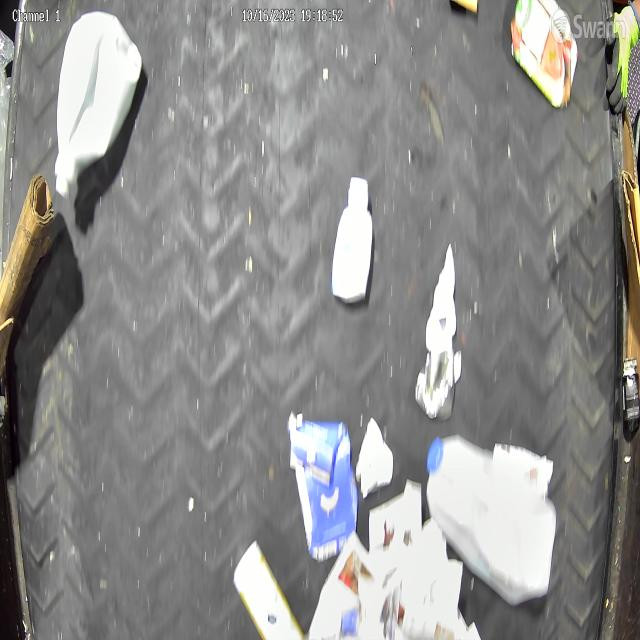milk_jug: (425, 432, 558, 605), (53, 8, 145, 198)
